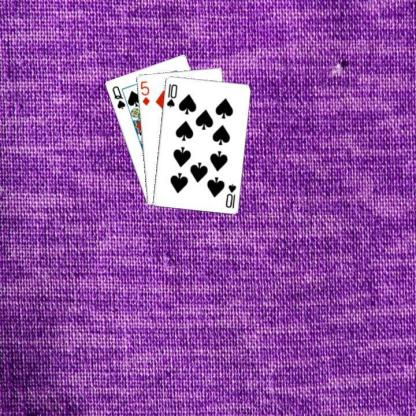10S: (164, 81, 179, 109), (223, 181, 238, 209)
5D: (137, 79, 151, 106)
QS: (109, 84, 127, 110)
